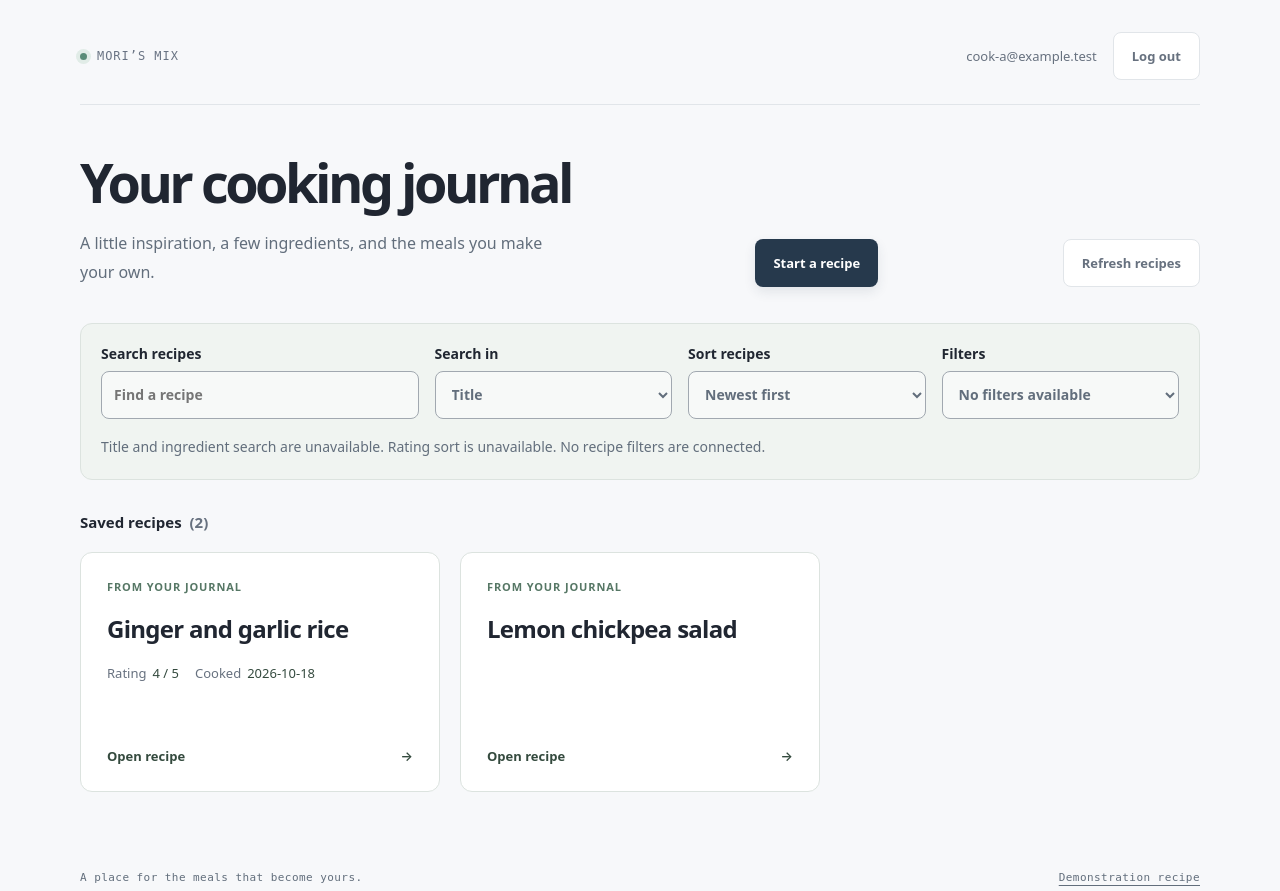
Test: labels stale data when a background refresh fails
Expected: the heading "Ginger and garlic rice" is shown, [107,612,348,645]
Click the button "Refresh recipes": (1131, 263) [1063,239,1200,287]
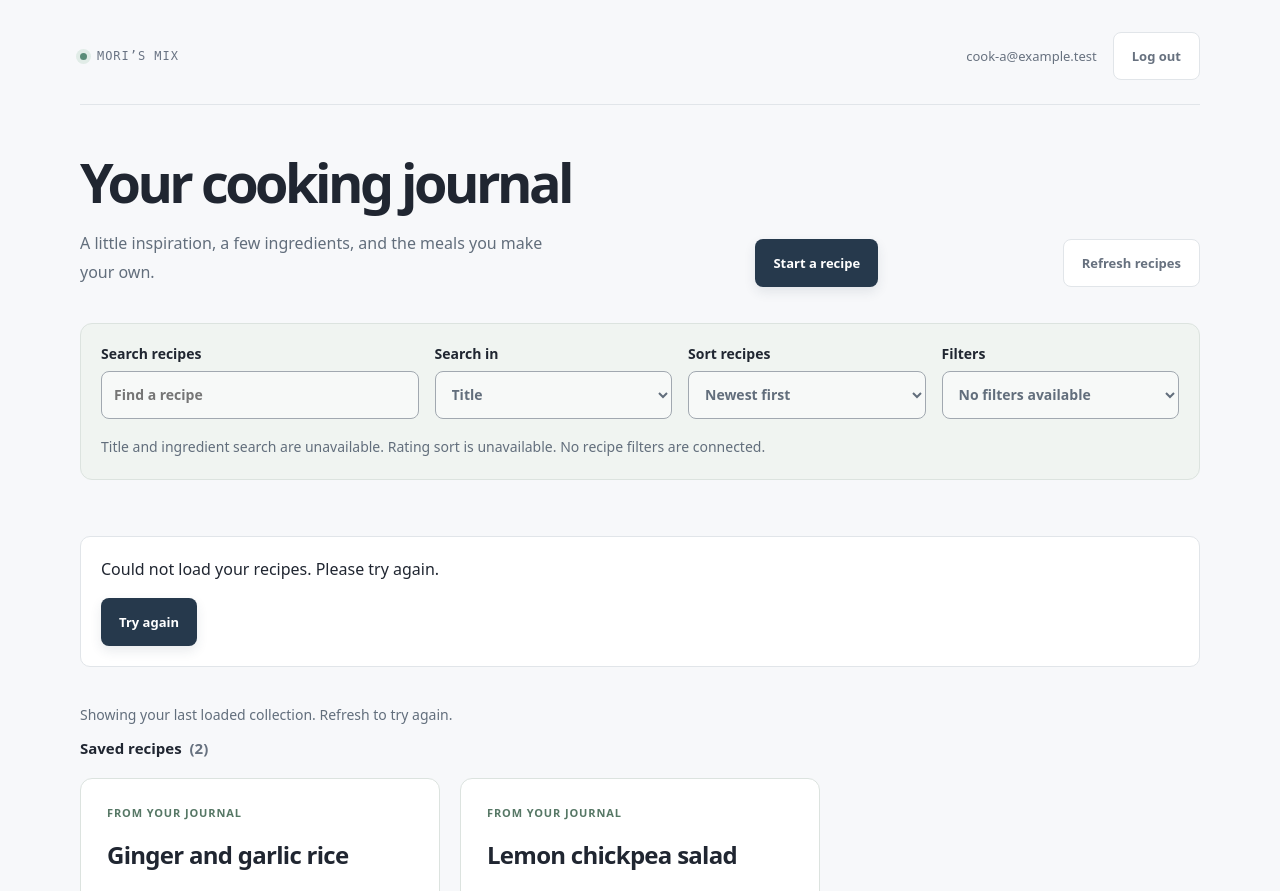
Expected: the heading "Ginger and garlic rice" is shown, [107,838,348,871]
Expected: the message "Could not load your recipes. Please try again." is shown, [101,558,439,580]
Expected: the text "Showing your last loaded collection. Refresh to try again." is shown, [80,705,452,724]
